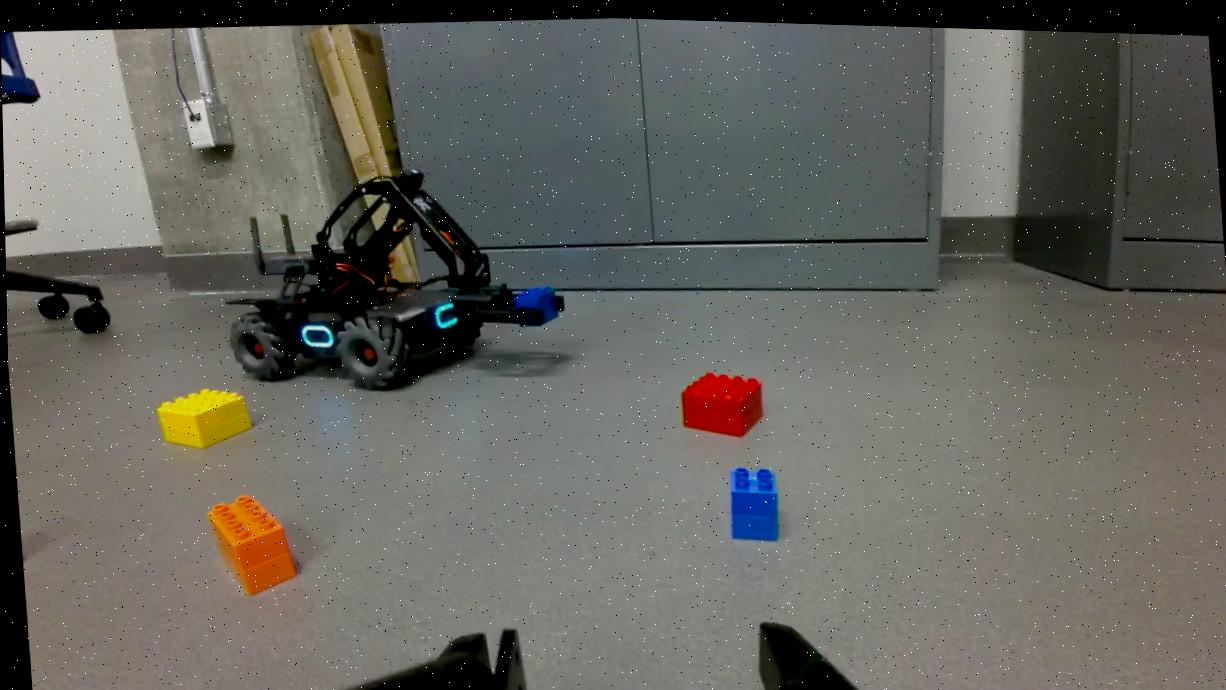2x2lego: (719, 460, 782, 542)
2x4lego: (203, 489, 299, 597)
4x4lego: (674, 364, 764, 442), (151, 384, 249, 450)
